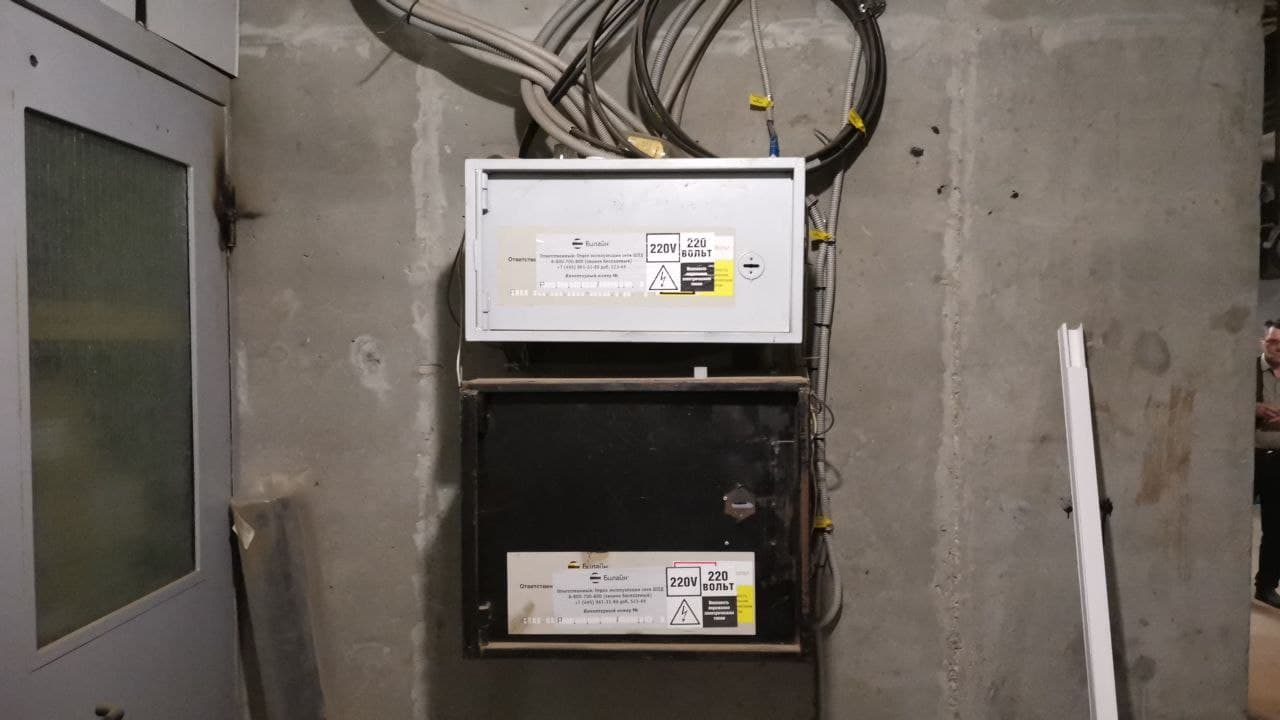shta-7m: (458, 149, 808, 348)
shta-9m: (454, 369, 817, 664)
